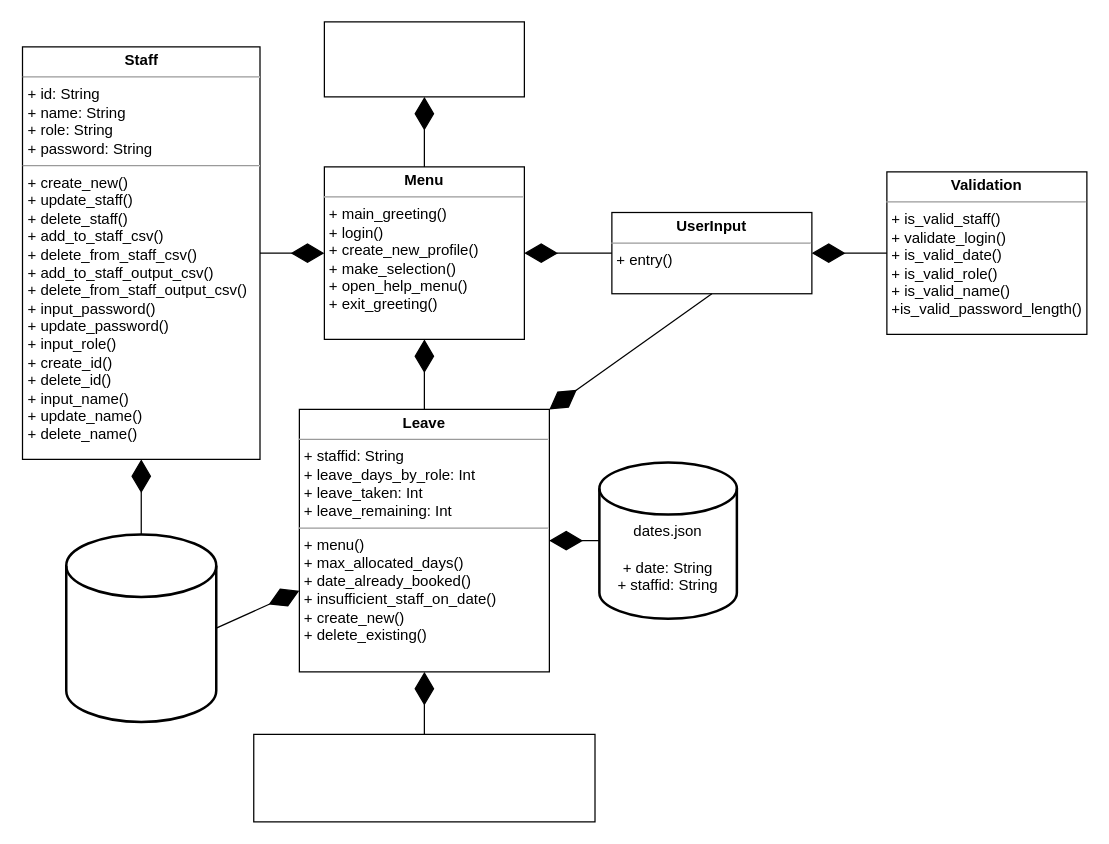
Some shapes in this 1109 by 844 pixel diagram are drawn without their labels. Here are the shapes that lost their labels. From the top down, the centre of each, then its label:
At point (423, 59): "Main + run()".
At point (140, 627): "staff.csv + id: String + name: String + role: String + password: String".
At point (423, 777): "Constants + MANAGER_MAX_LEAVE_ALLOCATED + TEAM_MEMBER_MAX_LEAVE_ALLOCATED".
